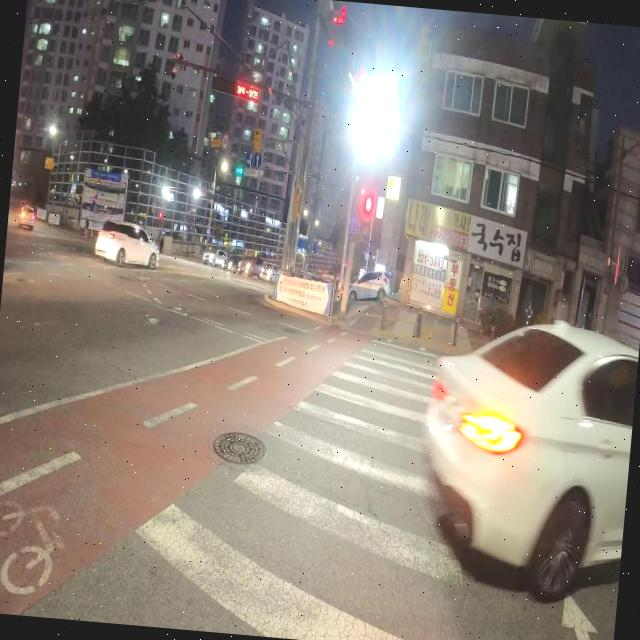crosswalk: (127, 333, 618, 640)
